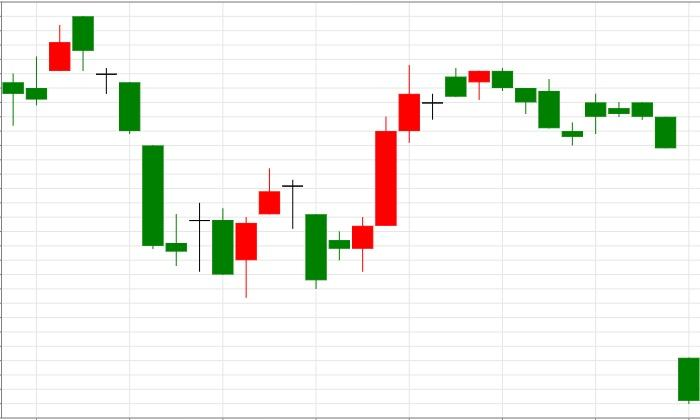three_white_soldiers_rise: (281, 65, 421, 289)
